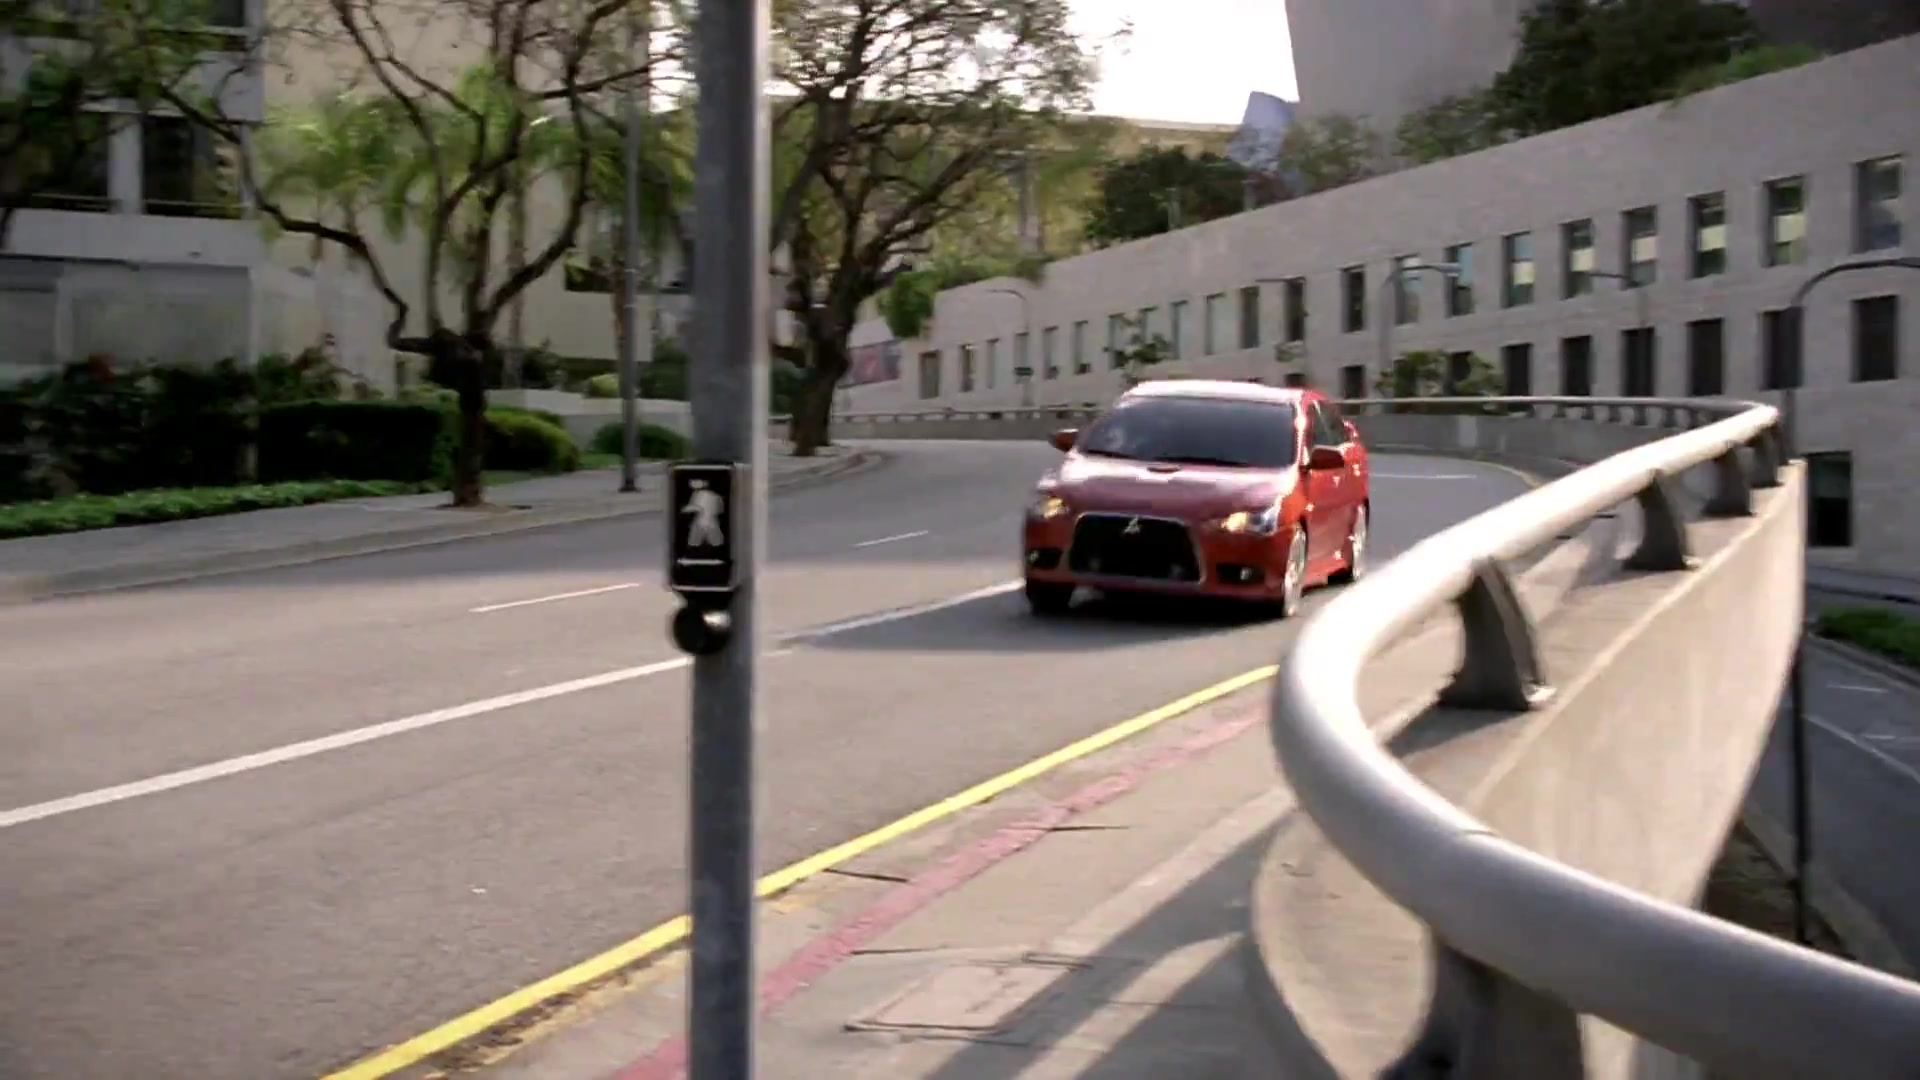car: (1023, 376, 1375, 625)
